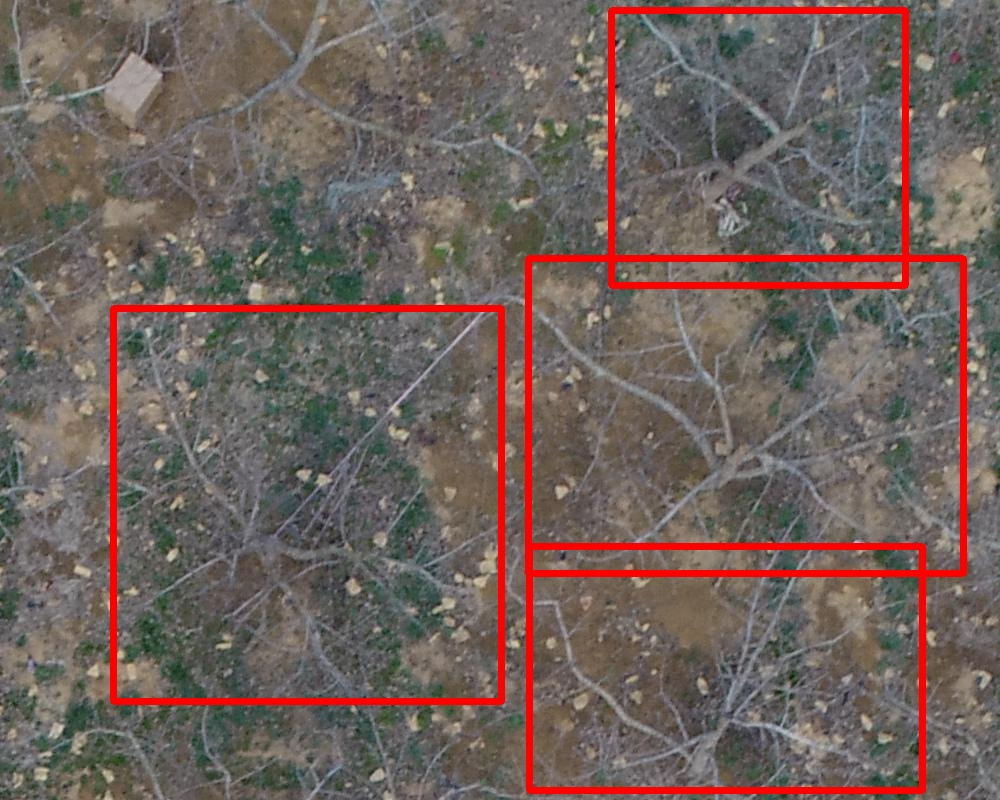apple: (113, 308, 501, 701), (528, 258, 963, 573), (529, 546, 922, 790), (611, 10, 905, 285)
